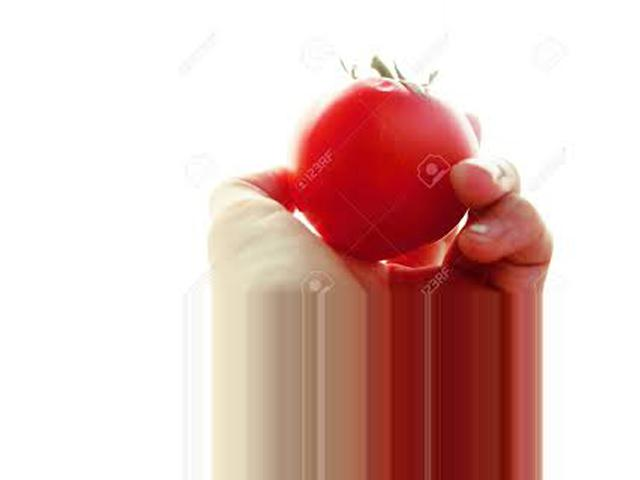tomato: (290, 75, 480, 258)
